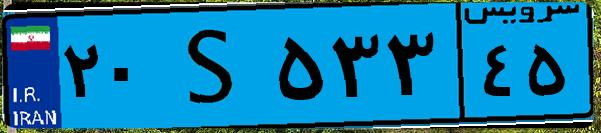0: (110, 28, 158, 98)
2: (57, 26, 110, 100)
3: (385, 28, 445, 110), (330, 28, 385, 110)
4: (475, 38, 525, 113)
5: (270, 28, 330, 110), (525, 38, 570, 115)
S: (158, 12, 270, 120)
